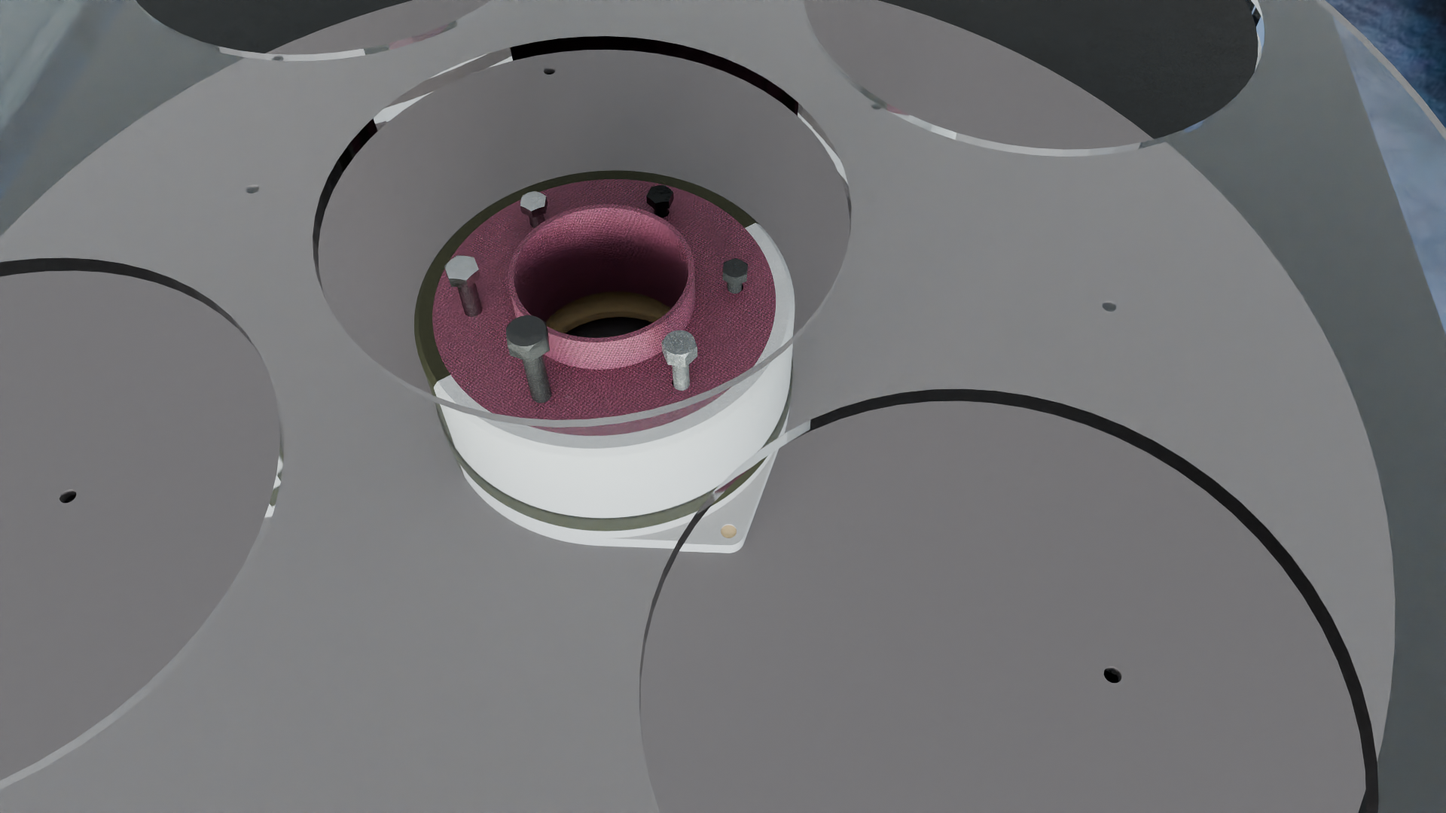bolt: (506, 315, 548, 352), (662, 330, 697, 358), (444, 255, 479, 280), (520, 190, 546, 212), (723, 258, 748, 279), (646, 185, 673, 203)
